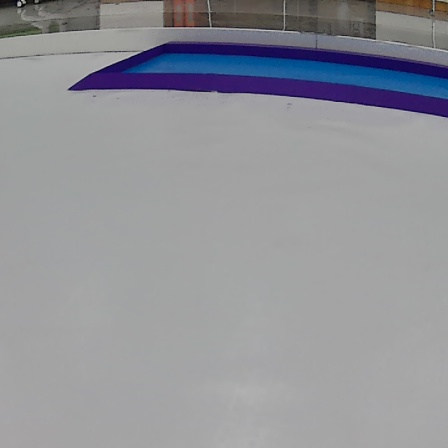blue_aim: (62, 40, 448, 116)
